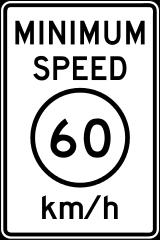Speed Limit -60-: (7, 9, 151, 228)
